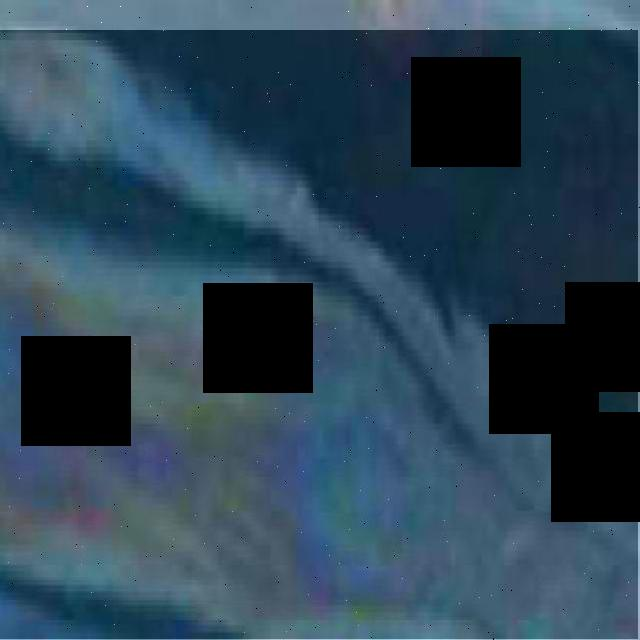oil_spillage: (0, 31, 638, 639)
